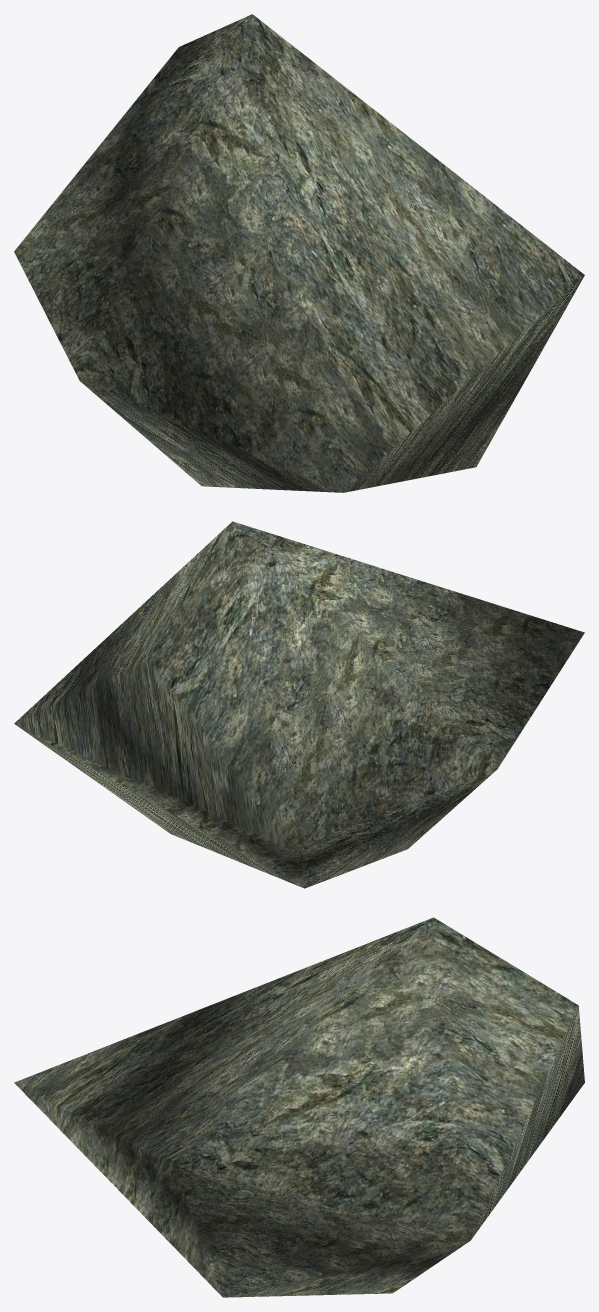
Rendered from mtns_rock_grey_a1_l3.fbx.
3 renders of one model, top to bottom at view 1: azimuth 30°, elevation 25°; view 2: azimuth 150°, elevation 25°; view 3: azimuth 270°, elevation 25°, orthographic. The views are drawn at different scales.
Parts seen in each view (by area): view 1: mesh_node; view 2: mesh_node; view 3: mesh_node.
Boxes of the visible parts, x1,y1,x2,y2 form: mesh_node: [14, 14, 584, 492]; mesh_node: [14, 521, 584, 888]; mesh_node: [14, 917, 584, 1297].
Size of the model in its own units: 1.37 by 1.12 by 1.71.
Materials: 1 (1 with a texture image).
